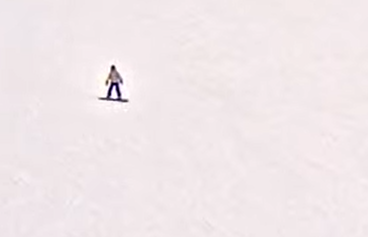snowboarder: (99, 62, 129, 103)
